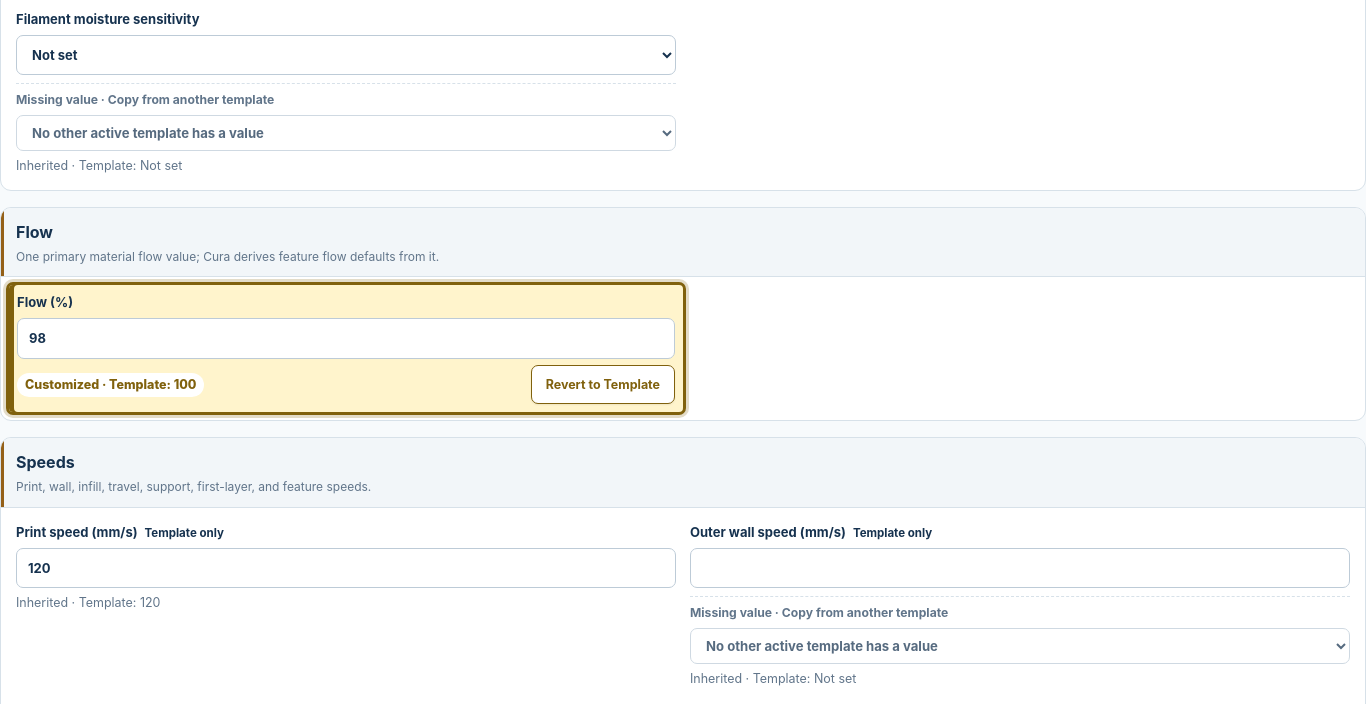
MaterialSettingsEditor validation › strongly marks explicit filament customizations and reverts them to the template
(page scrolled)
Expected: the text "Customized · Template: 100" is shown, 17,372 -> 204,397
Click the button "Revert to Template" at (603, 385), box 531,365 -> 675,404
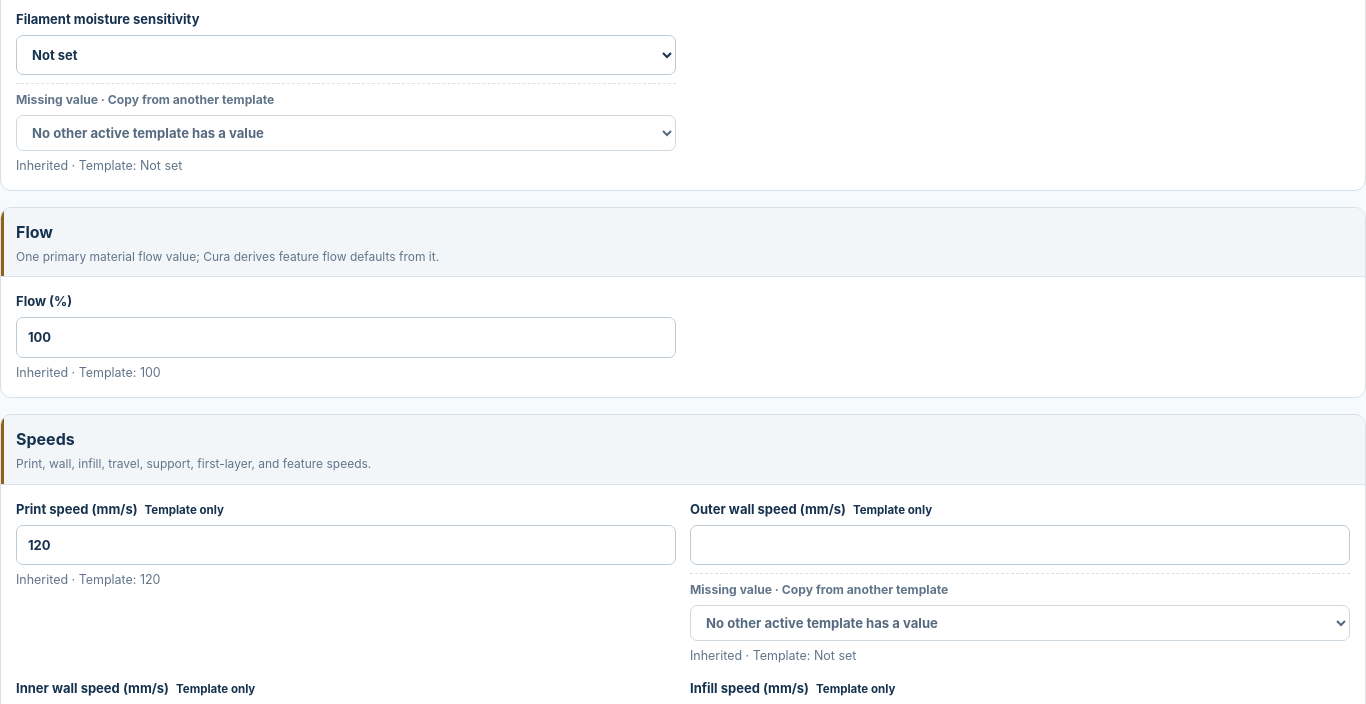
Now the number field labelled "Flow (%)" holds "100", box 16,317 -> 676,358
Now the text "Inherited · Template: 100" is shown, box 16,364 -> 161,382
Now the button "Revert to Template" is gone
